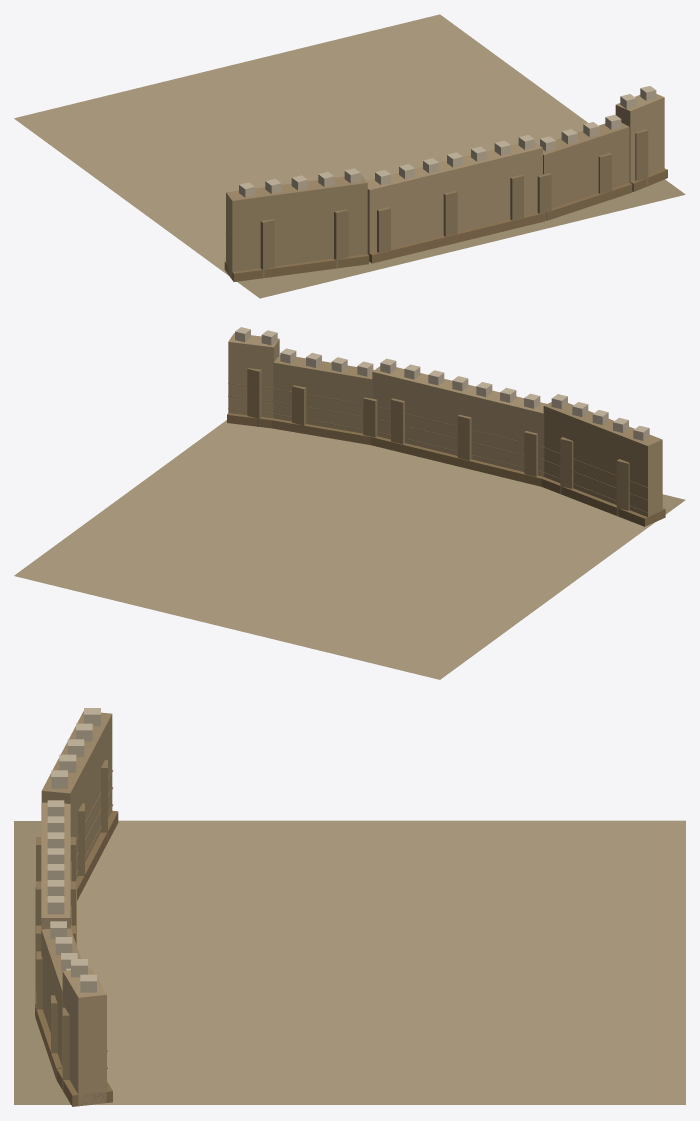
File: city-boundary-0_1.glb
3 views of the same model, one above another, from view 1: azimuth 30°, elevation 25°; view 2: azimuth 150°, elevation 25°; view 3: azimuth 270°, elevation 25° (orthographic). The views are drawn at different scales.
Parts seen in each view (by area): view 1: city-boundary-0_1; view 2: city-boundary-0_1; view 3: city-boundary-0_1.
Part boxes in pixels (box(x1,y1,x2,y2)): city-boundary-0_1: box(14, 14, 685, 298); city-boundary-0_1: box(14, 327, 685, 679); city-boundary-0_1: box(14, 708, 685, 1106).
Size of the model in its own units: 32.46 by 6.31 by 32.
